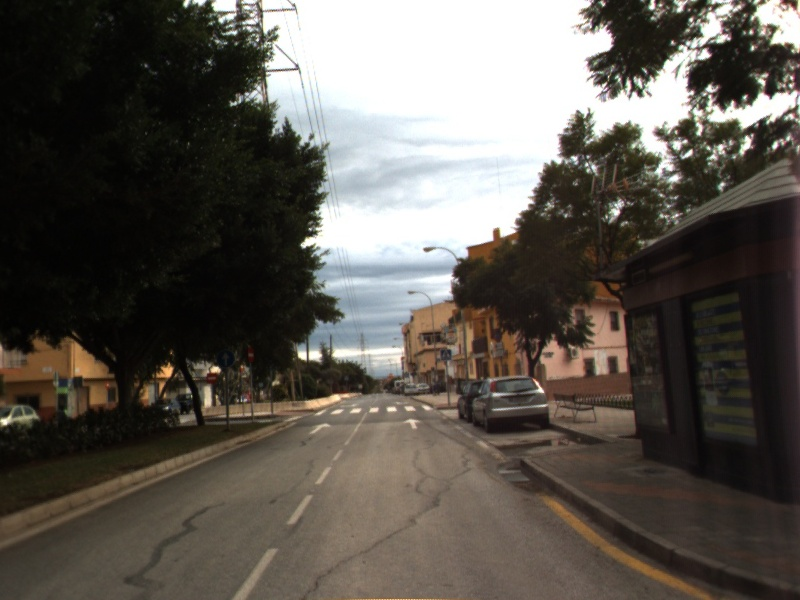STRAIGHT: (307, 420, 334, 436), (401, 416, 423, 431)
